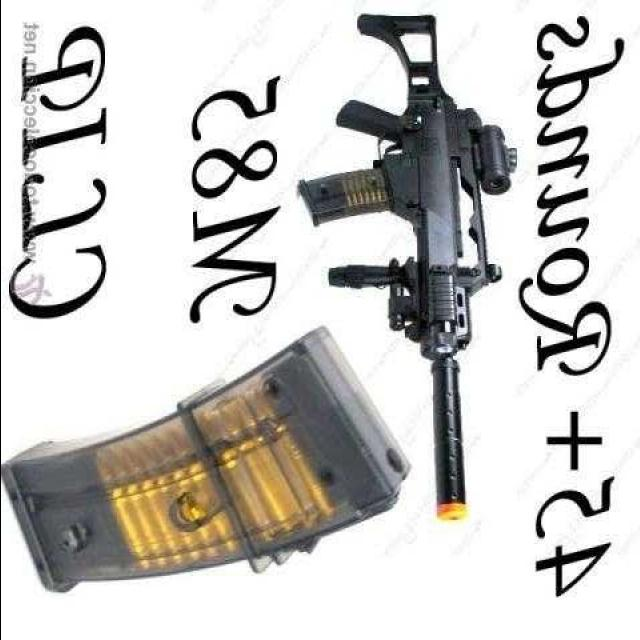heavyweapon: (295, 1, 537, 555)
